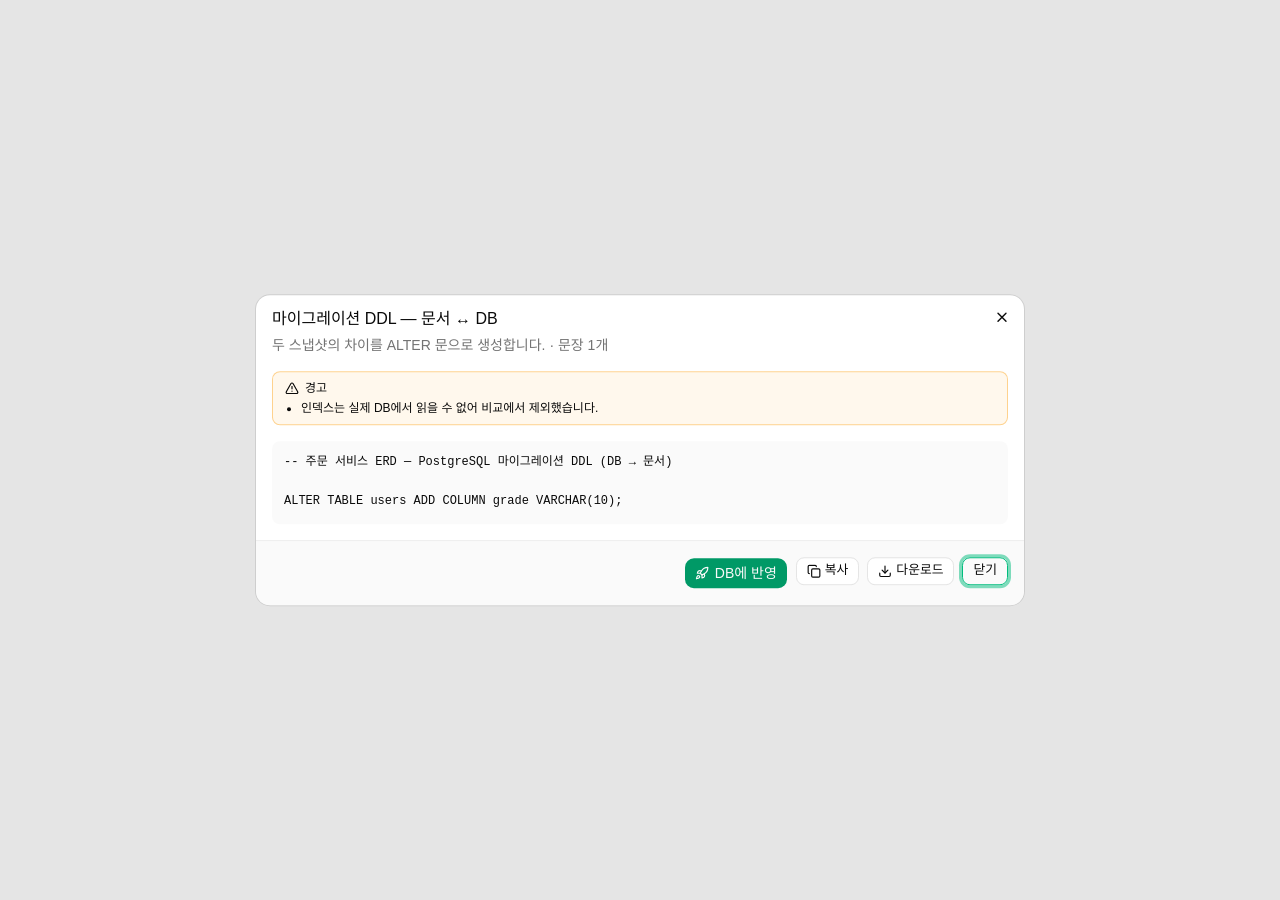
Test: MigrationDdlDialog — 문서↔실제 DB › 반영 버튼 누르면 경고 확인 다이얼로그 — 문장 수·커넥션을 밝힌다
expect the text with test id "migration-ddl-script" is shown: met, box [272,441,1008,524]
Click the button with test id "migration-apply": (736, 573) [684,557,788,589]
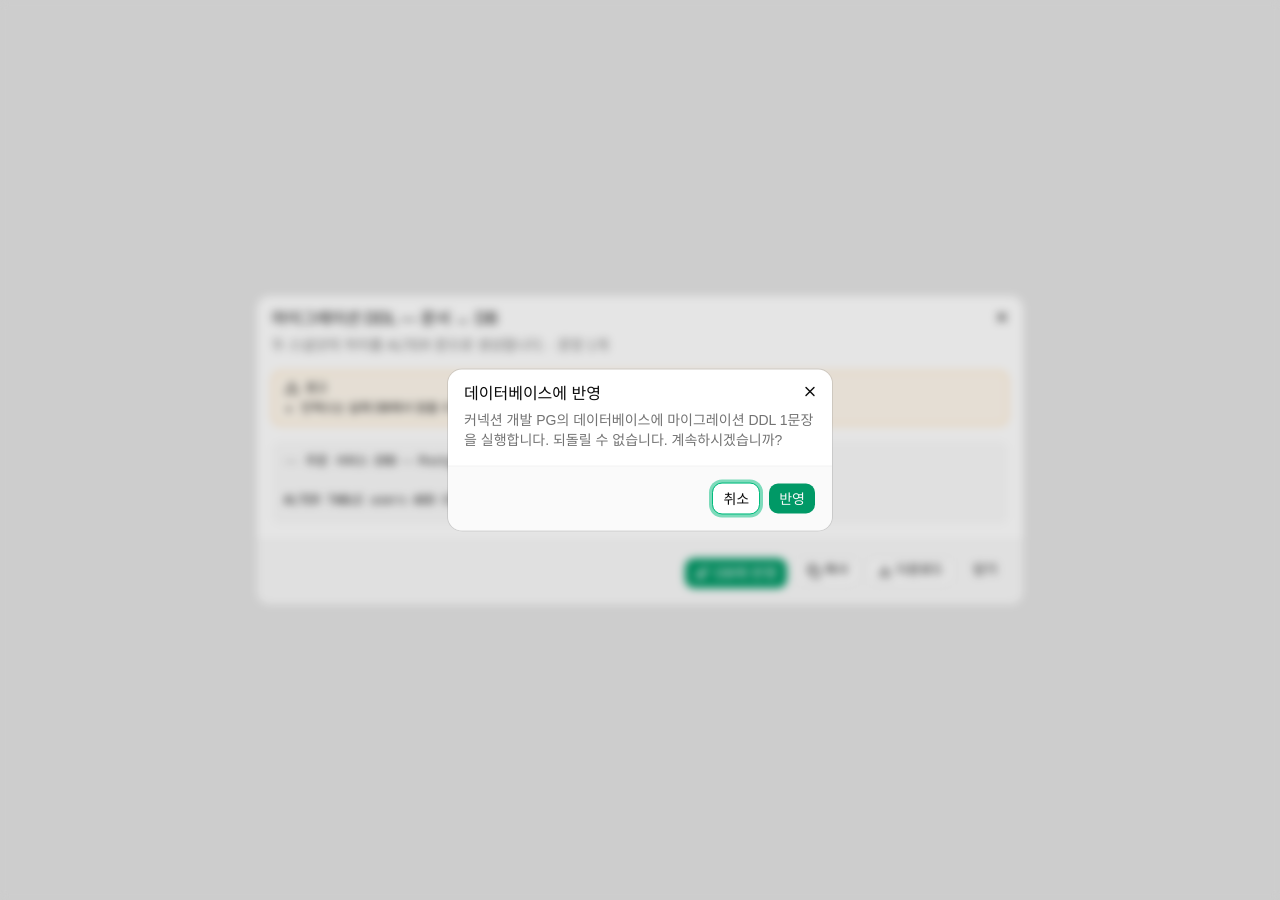
expect the heading "데이터베이스에 반영" is shown: met, box [464,384,601,402]
expect the text "되돌릴 수 없습니다" is shown: met, box [464,412,813,448]
# 취소하면 확인창만 닫힌다 — 실행 요청은 가지 않는다
Click the button "취소": (736, 498) [712,482,760,514]
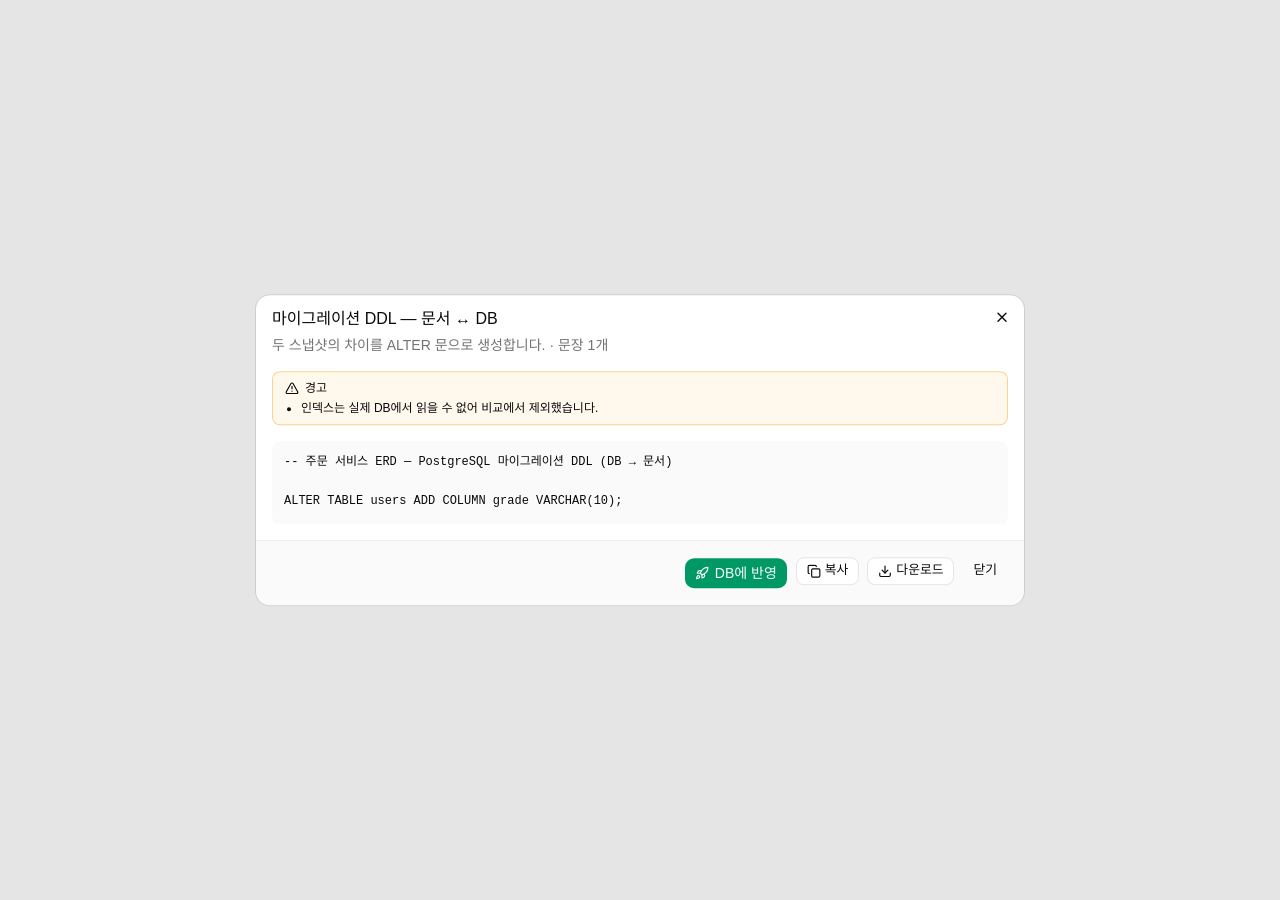
expect the heading "데이터베이스에 반영" is gone: met
